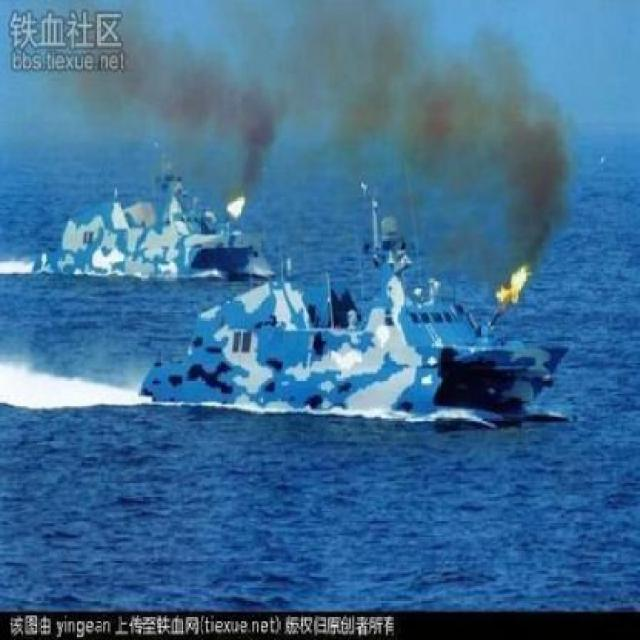Fire: (496, 253, 538, 320), (224, 182, 256, 230)
